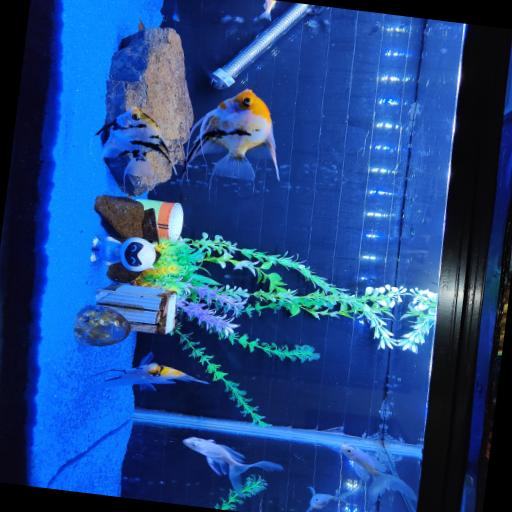Fish: (187, 89, 278, 179), (182, 436, 282, 495), (96, 106, 175, 177), (88, 352, 206, 390), (340, 443, 415, 498), (305, 484, 359, 511), (258, 0, 275, 19)
